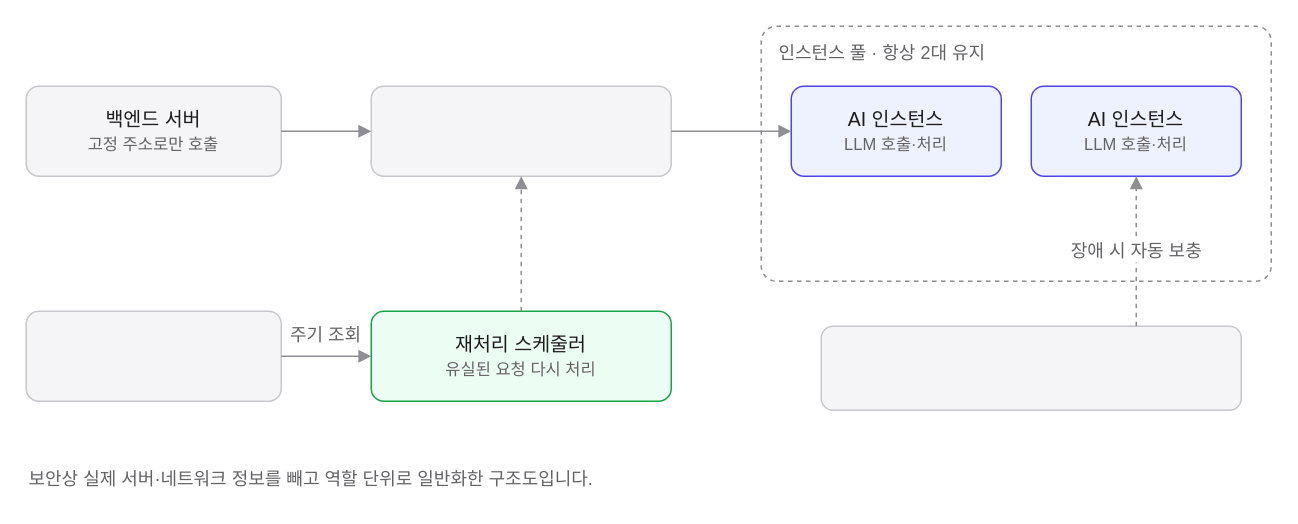
Image size: 1298x524. Some labels were removed from this diagram. Here are the shapes that lost their labels. From the top down, the centre of each, then its label:
(520,130): 내부 로드밸런서 헬스체크로 장애 인스턴스 제외
(153,355): 작업 상태 DB 진행 중 상태 플래그
(1030,367): 골든 이미지 부팅만 하면 앱·스캐너 자동 기동
